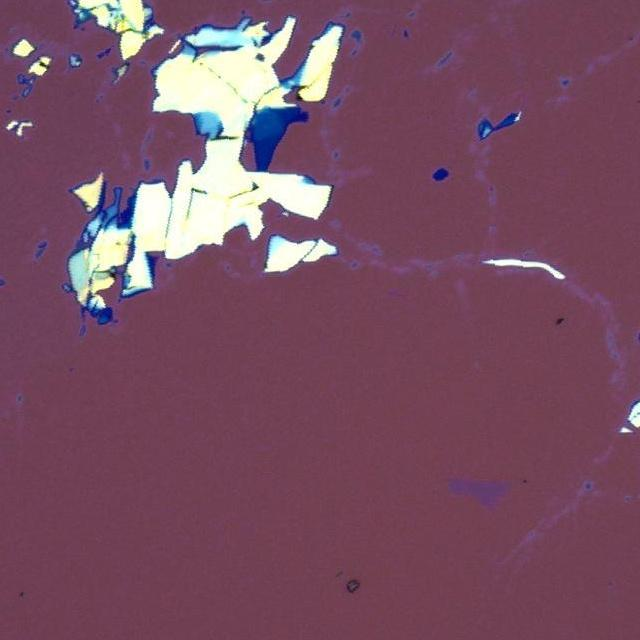monolayer-eWW4: (443, 479, 512, 512)
